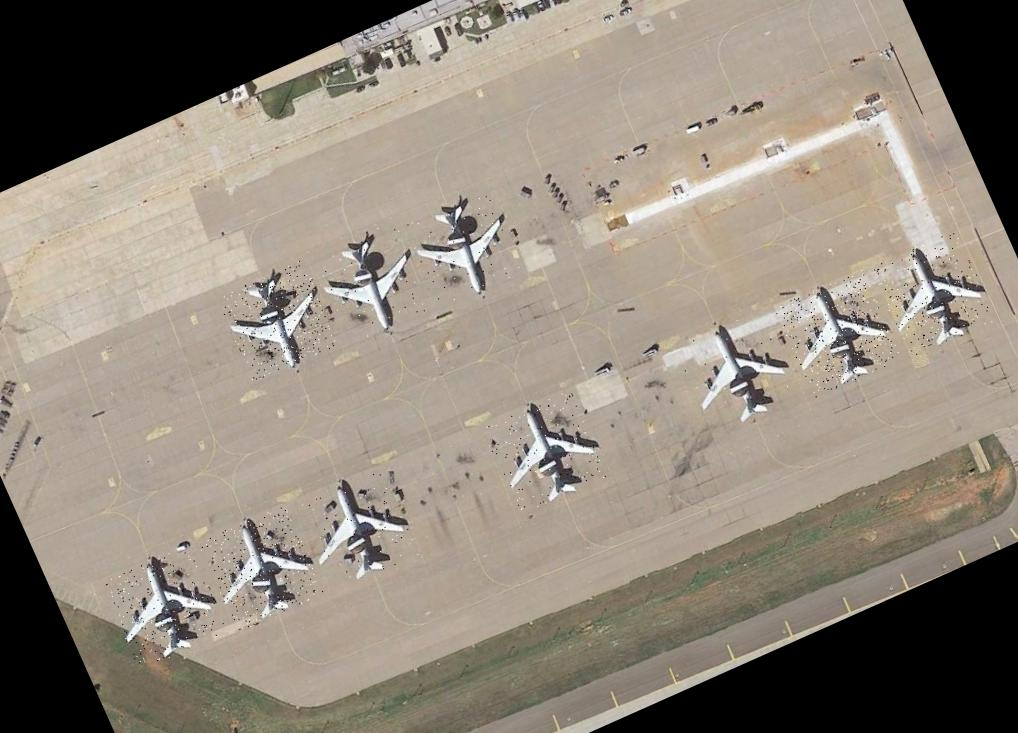A7: (100, 542, 230, 670), (774, 268, 902, 398), (198, 503, 326, 632), (672, 307, 801, 435), (870, 229, 997, 358), (292, 467, 419, 593), (482, 389, 609, 514), (216, 258, 342, 382), (310, 220, 433, 345), (404, 186, 526, 308)
